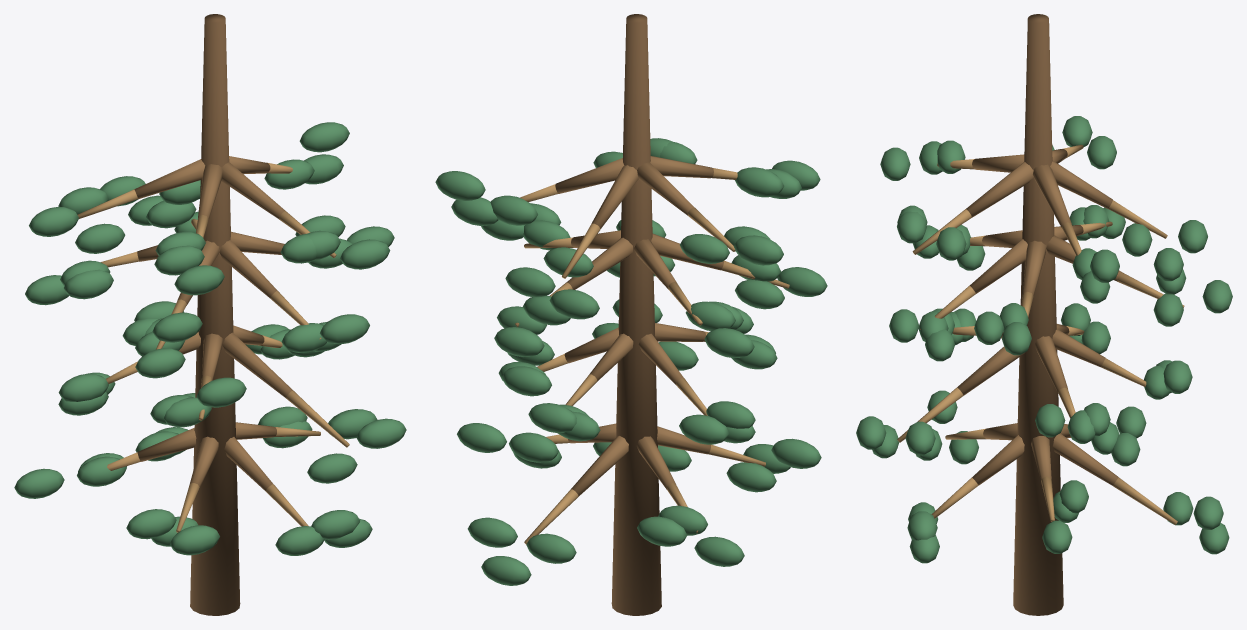
Rendered from conifer_sapling_b.glb.
The picture shows the model from 3 angles, left to right: view 1: azimuth 30°, elevation 25°; view 2: azimuth 150°, elevation 25°; view 3: azimuth 270°, elevation 25°; orthographic projection.
Parts seen in each view (by area): view 1: conifer_sapling_b_trunk, conifer_sapling_b_branch_1_4_a, conifer_sapling_b_branch_3_4_a, conifer_sapling_b_branch_3_2_a, sapling_mass_9_needle_mass_1, sapling_mass_18_needle_mass_1, sapling_mass_13_needle_mass_0, sapling_mass_15_needle_mass_2, sapling_mass_10_needle_mass_1, sapling_mass_17_needle_mass_0, sapling_mass_3_needle_mass_2, sapling_mass_9_needle_mass_0 (+43 smaller); view 2: conifer_sapling_b_trunk, sapling_mass_16_needle_mass_0, sapling_mass_17_needle_mass_2, sapling_mass_16_needle_mass_1, sapling_mass_17_needle_mass_1, sapling_mass_1_needle_mass_2, sapling_mass_2_needle_mass_1, sapling_mass_0_needle_mass_2, sapling_mass_1_needle_mass_0, sapling_mass_2_needle_mass_0, sapling_mass_5_needle_mass_2, sapling_mass_7_needle_mass_0 (+46 smaller); view 3: conifer_sapling_b_trunk, conifer_sapling_b_branch_3_4_a, conifer_sapling_b_branch_0_1_a, conifer_sapling_b_branch_2_4_a, conifer_sapling_b_branch_3_0_a, conifer_sapling_b_branch_3_1_a, conifer_sapling_b_branch_1_4_a, conifer_sapling_b_branch_0_4_a, conifer_sapling_b_branch_1_0_a, conifer_sapling_b_branch_2_0_a, conifer_sapling_b_branch_1_1_a, sapling_mass_9_needle_mass_2 (+47 smaller).
Part boxes in pixels (x1=…): conifer_sapling_b_trunk: x1=190, y1=14, x2=240, y2=615; conifer_sapling_b_branch_1_4_a: x1=222, y1=332, x2=292, y2=397; conifer_sapling_b_branch_3_4_a: x1=221, y1=162, x2=285, y2=218; conifer_sapling_b_branch_3_2_a: x1=134, y1=159, x2=205, y2=199; sapling_mass_9_needle_mass_1: x1=307, y1=453, x2=357, y2=483; sapling_mass_18_needle_mass_1: x1=174, y1=265, x2=224, y2=295; sapling_mass_13_needle_mass_0: x1=135, y1=348, x2=185, y2=378; sapling_mass_15_needle_mass_2: x1=299, y1=122, x2=349, y2=152; sapling_mass_10_needle_mass_1: x1=340, y1=239, x2=390, y2=269; sapling_mass_17_needle_mass_0: x1=75, y1=223, x2=125, y2=253; sapling_mass_3_needle_mass_2: x1=170, y1=525, x2=219, y2=555; sapling_mass_9_needle_mass_0: x1=356, y1=418, x2=406, y2=448; conifer_sapling_b_trunk: x1=611, y1=14, x2=661, y2=615; sapling_mass_16_needle_mass_0: x1=505, y1=267, x2=555, y2=297; sapling_mass_17_needle_mass_2: x1=733, y1=235, x2=783, y2=265; sapling_mass_16_needle_mass_1: x1=549, y1=289, x2=599, y2=319; sapling_mass_17_needle_mass_1: x1=680, y1=234, x2=729, y2=263; sapling_mass_1_needle_mass_2: x1=467, y1=517, x2=517, y2=547; sapling_mass_2_needle_mass_1: x1=637, y1=516, x2=687, y2=546; sapling_mass_0_needle_mass_2: x1=509, y1=432, x2=558, y2=462; sapling_mass_1_needle_mass_0: x1=526, y1=533, x2=576, y2=563; sapling_mass_2_needle_mass_0: x1=694, y1=536, x2=744, y2=566; sapling_mass_5_needle_mass_2: x1=502, y1=366, x2=551, y2=396; sapling_mass_7_needle_mass_0: x1=679, y1=414, x2=729, y2=444; conifer_sapling_b_trunk: x1=1013, y1=14, x2=1063, y2=615; conifer_sapling_b_branch_3_4_a: x1=966, y1=162, x2=1033, y2=217; conifer_sapling_b_branch_0_1_a: x1=1053, y1=433, x2=1118, y2=485; conifer_sapling_b_branch_2_4_a: x1=969, y1=239, x2=1027, y2=293; conifer_sapling_b_branch_3_0_a: x1=1033, y1=164, x2=1071, y2=227; conifer_sapling_b_branch_3_1_a: x1=1050, y1=160, x2=1112, y2=208; conifer_sapling_b_branch_1_4_a: x1=957, y1=346, x2=1024, y2=395; conifer_sapling_b_branch_0_4_a: x1=972, y1=435, x2=1024, y2=485; conifer_sapling_b_branch_1_0_a: x1=1034, y1=336, x2=1067, y2=391; conifer_sapling_b_branch_2_0_a: x1=1022, y1=240, x2=1046, y2=295; conifer_sapling_b_branch_1_1_a: x1=1052, y1=329, x2=1105, y2=367; sapling_mass_9_needle_mass_2: x1=905, y1=421, x2=935, y2=455.
Bounding box in the file's own units: 0.8366 × 1.41 × 0.8207.
